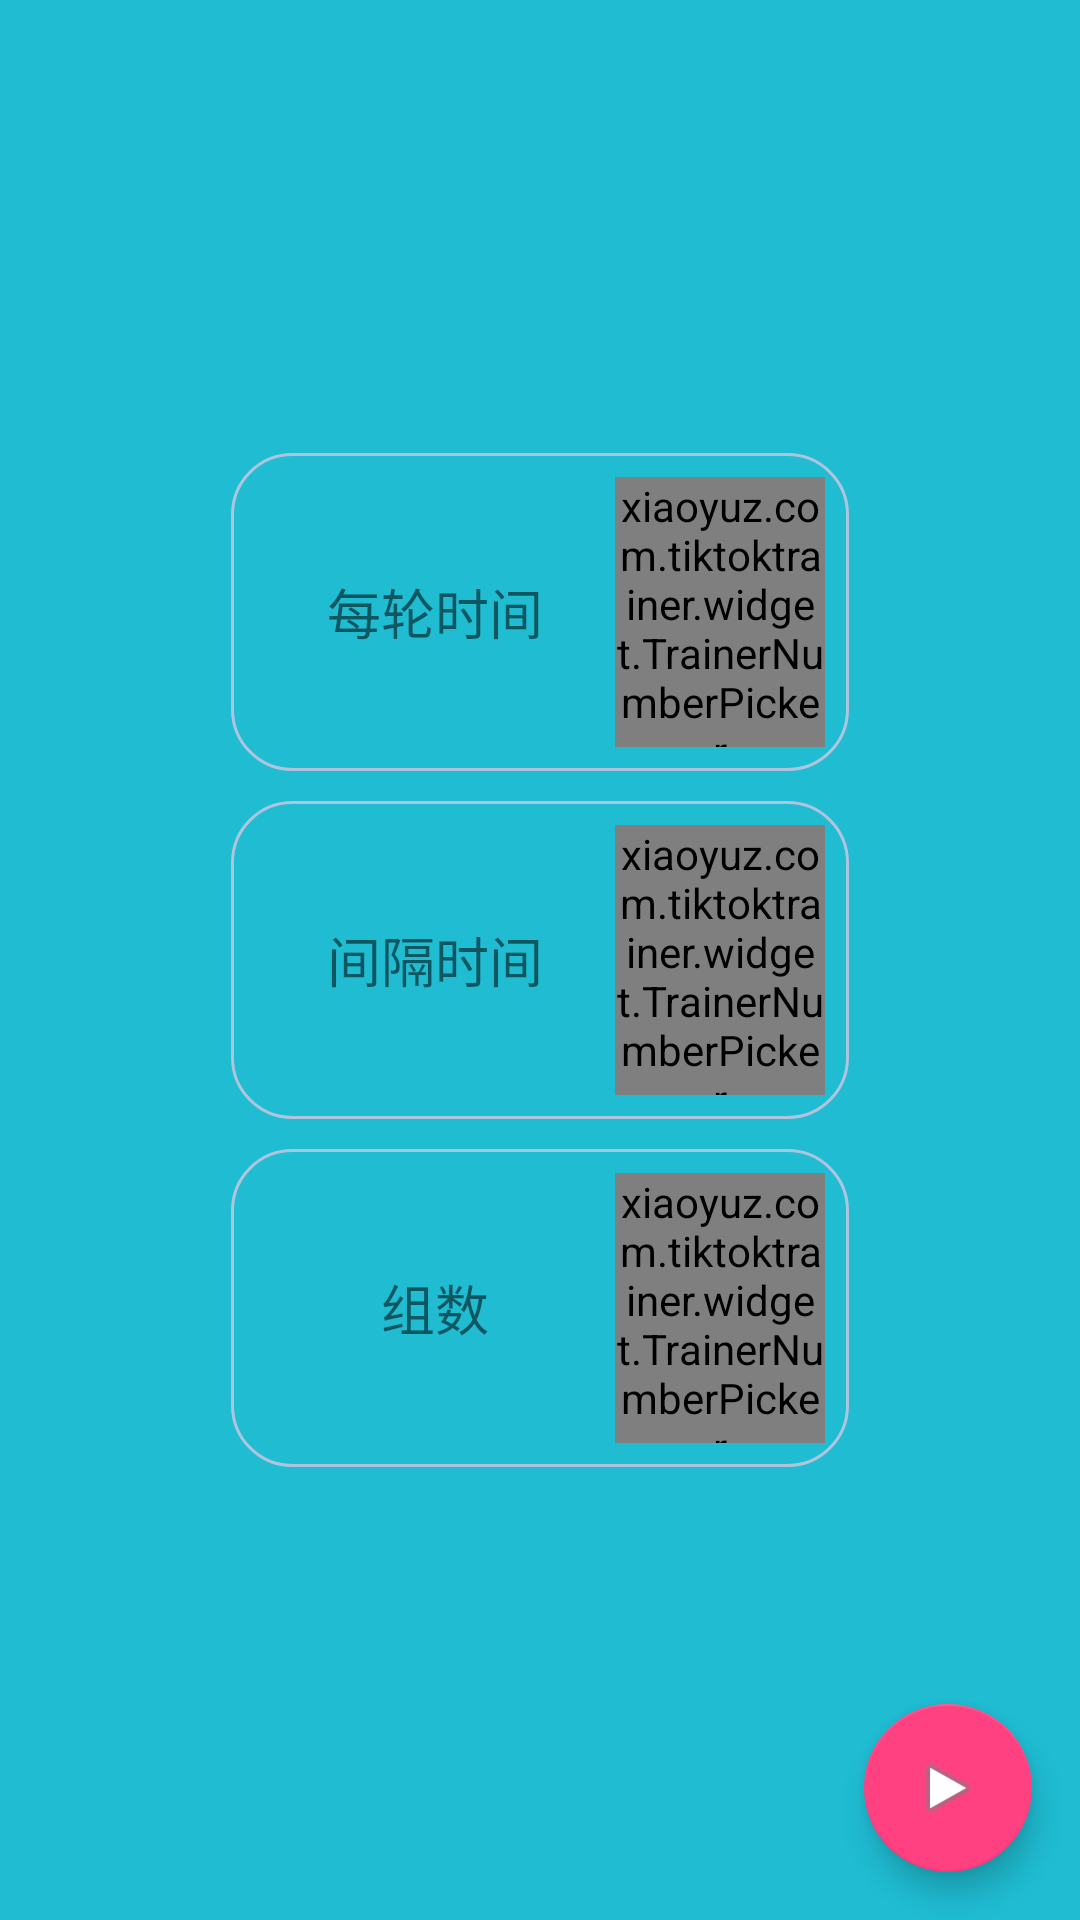

Icons on this 1080px x 1920px Android screen, each with its box as (x1, y1, x2, y2):
play: (864, 1704, 1032, 1872)
